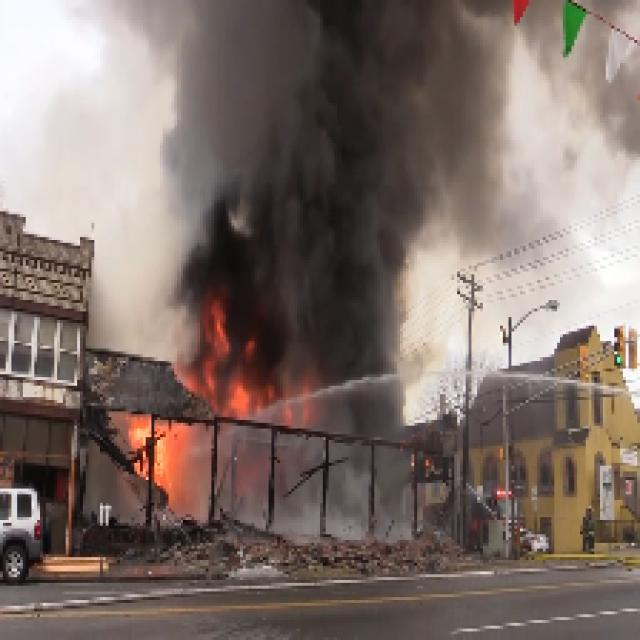Smoke: (223, 4, 418, 388)
